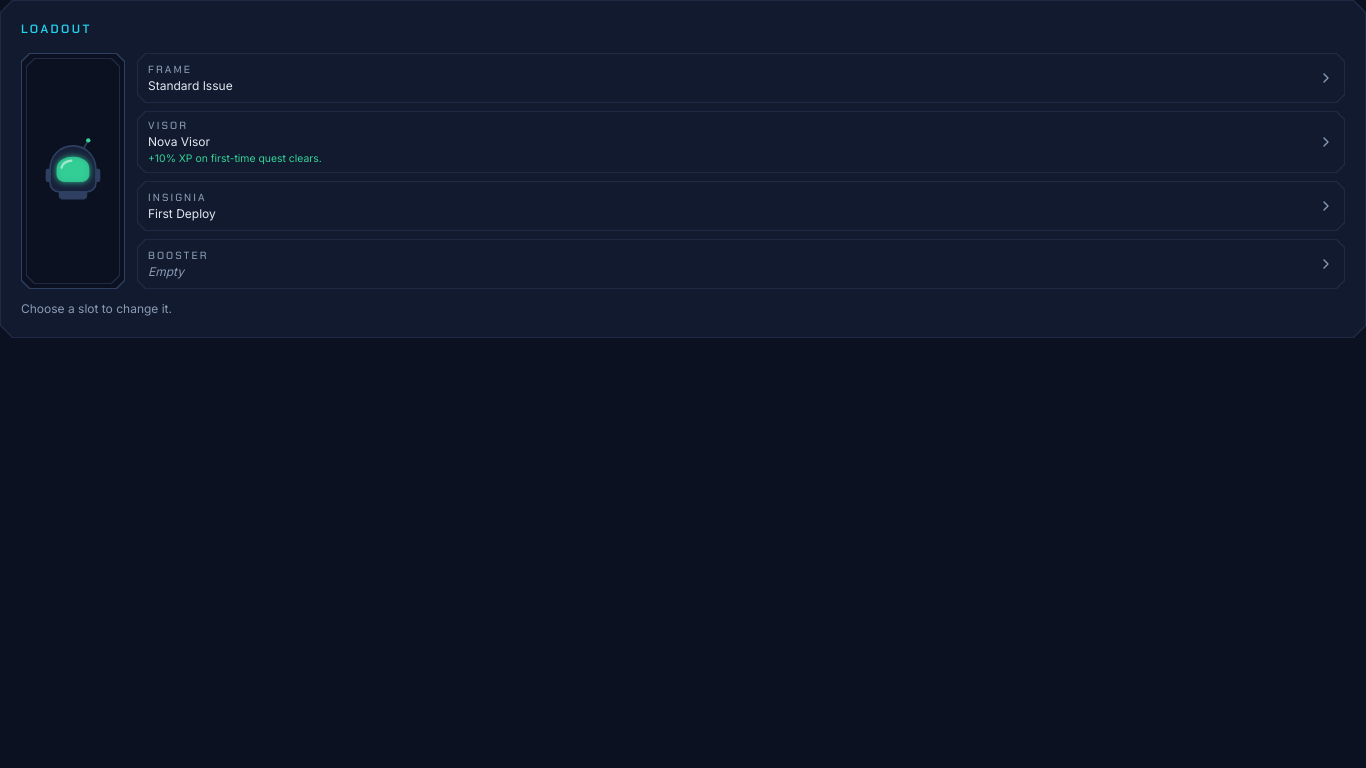
Test: LoadoutPanel › the Frame slot opens the Frames picker, which closes again
Click the button "Frame Standard Issue".
click(741, 78)  # box left=137, top=53, right=1345, bottom=103
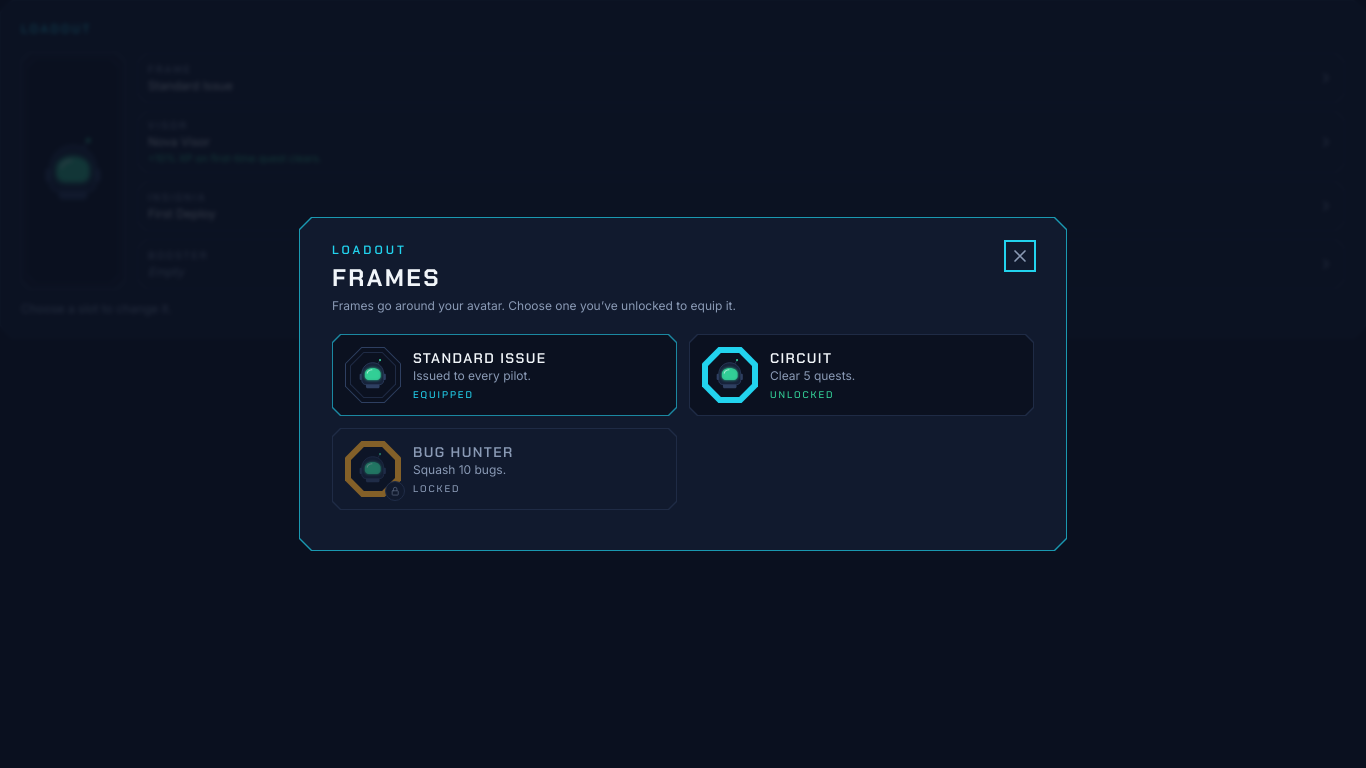
Click the button named "Close".
click(1020, 256)  # box left=1006, top=242, right=1034, bottom=270
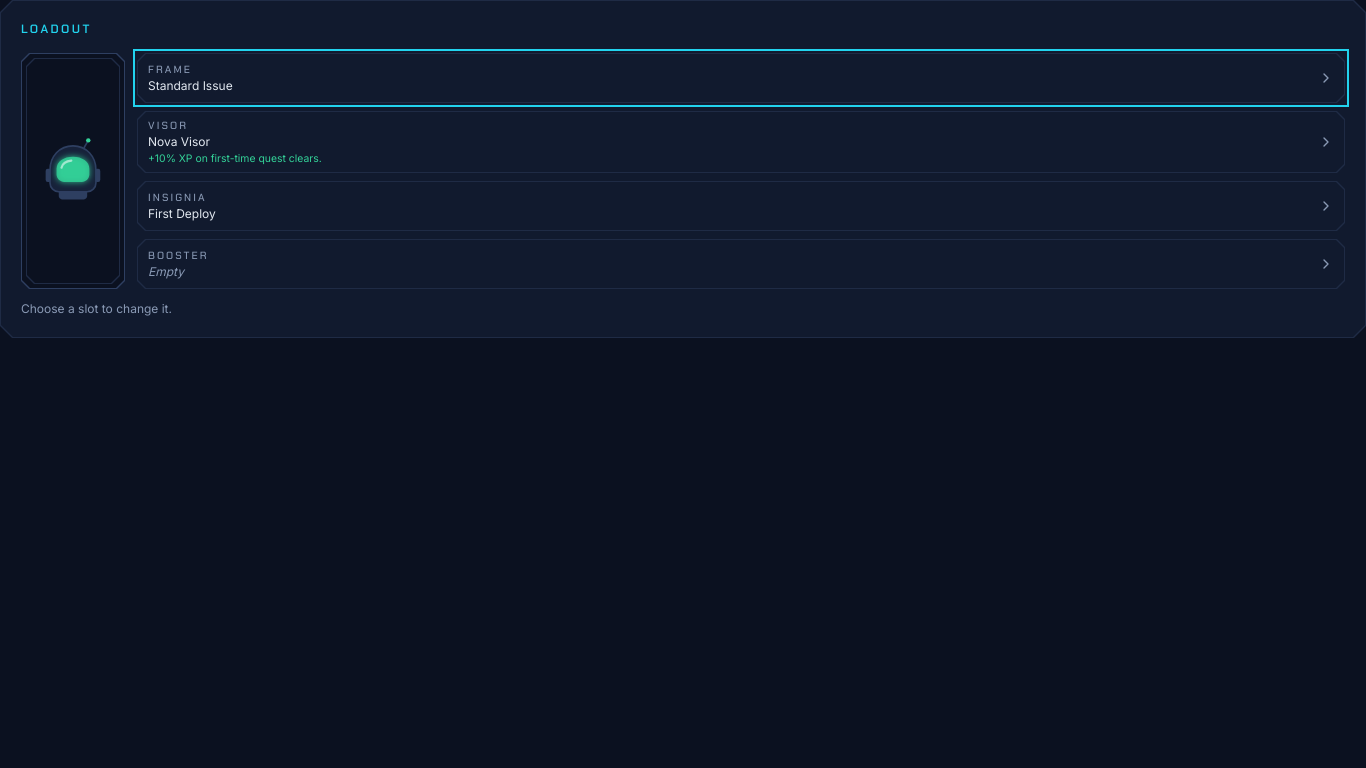
Check: the dialog is gone
